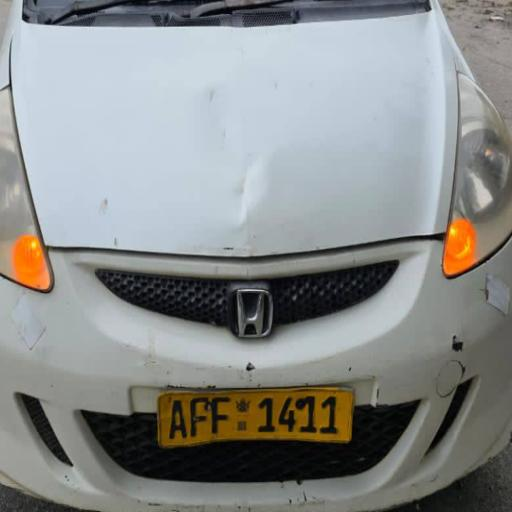number-plates: (158, 390, 346, 449)
